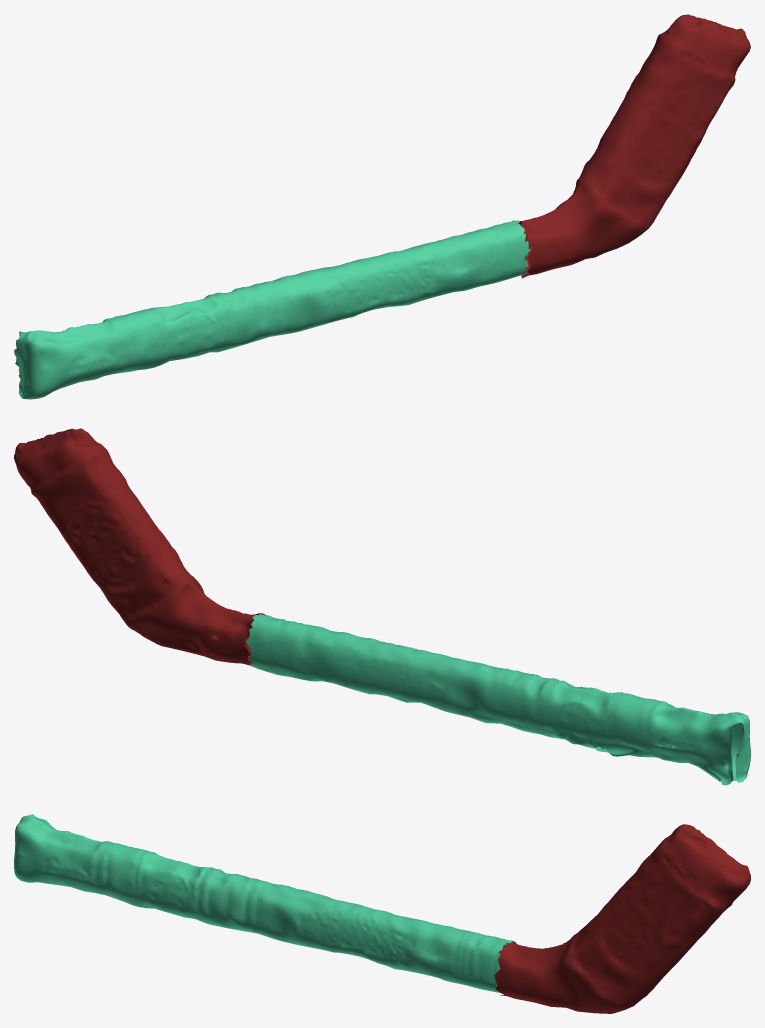
The model's file is object_deformed_0.obj.
3 renders of one model, top to bottom at view 1: azimuth 30°, elevation 25°; view 2: azimuth 150°, elevation 25°; view 3: azimuth 330°, elevation 25°, orthographic. The views are drawn at different scales.
Size of the model in its own units: 0.6063 by 0.1655 by 0.0544.
